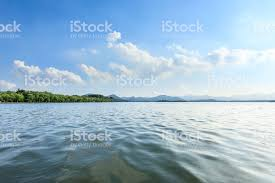lake: (2, 101, 275, 182)
sky: (2, 1, 274, 96)
